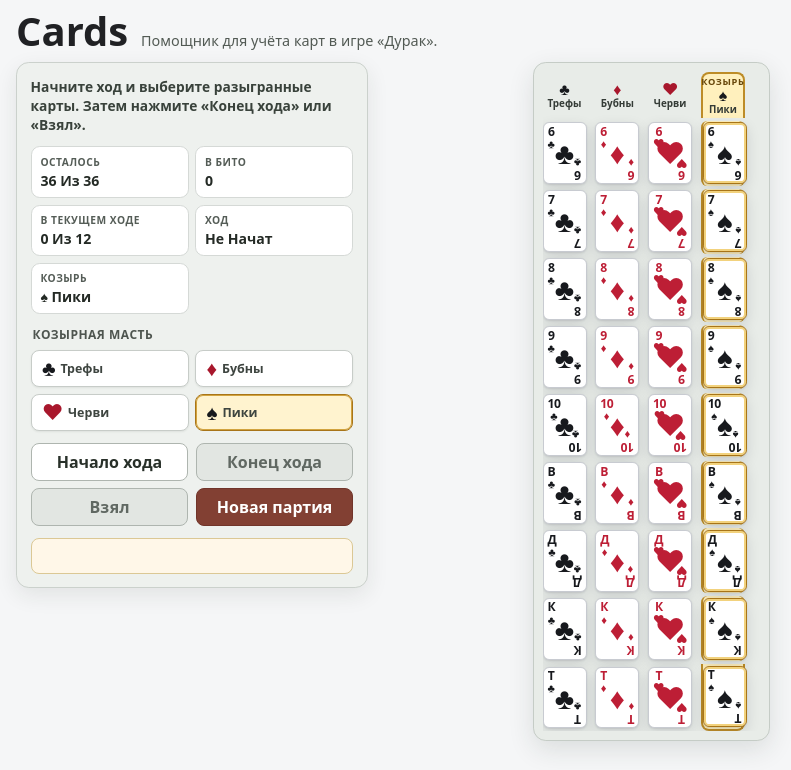
App turn scenarios › automatically starts a turn and confirms the selected card as discarded
What coordinates should you click on to do the following:
click the button "6 ♣ ♣ 6 ♣"
I would click on:
 (564, 153)
Its box is [542,122,586,184].
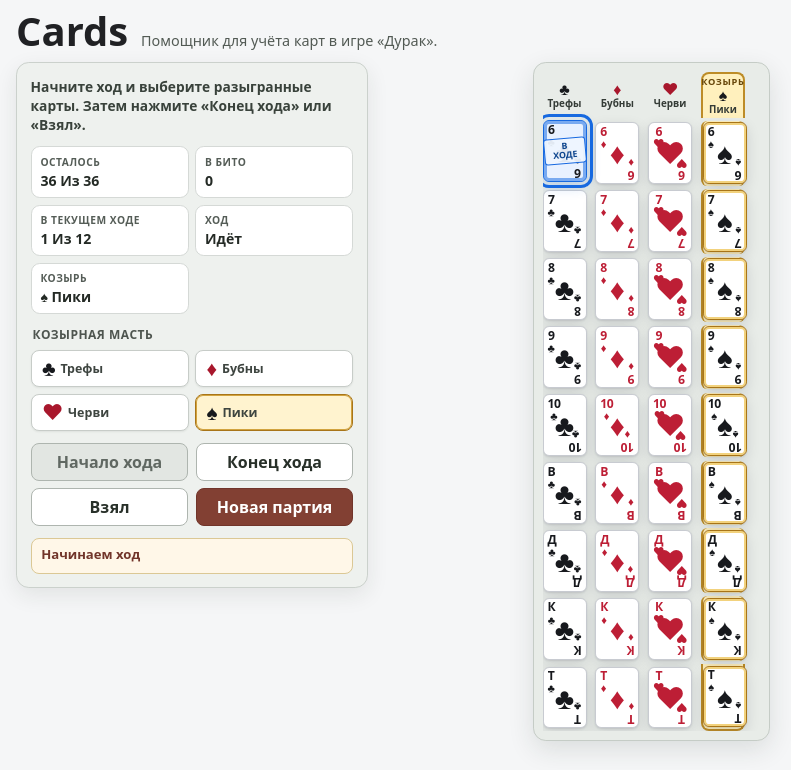
Expected: the text "Начинаем ход" is shown, [41,545,140,563]
Expected: the text "1 из 12" is shown, [40,229,91,248]
Expected: the button "Конец хода" is enabled
What coordinates should you click on to do the following:
click the button "Конец хода"
I would click on:
 (274, 462)
Its box is [196,443,353,481].
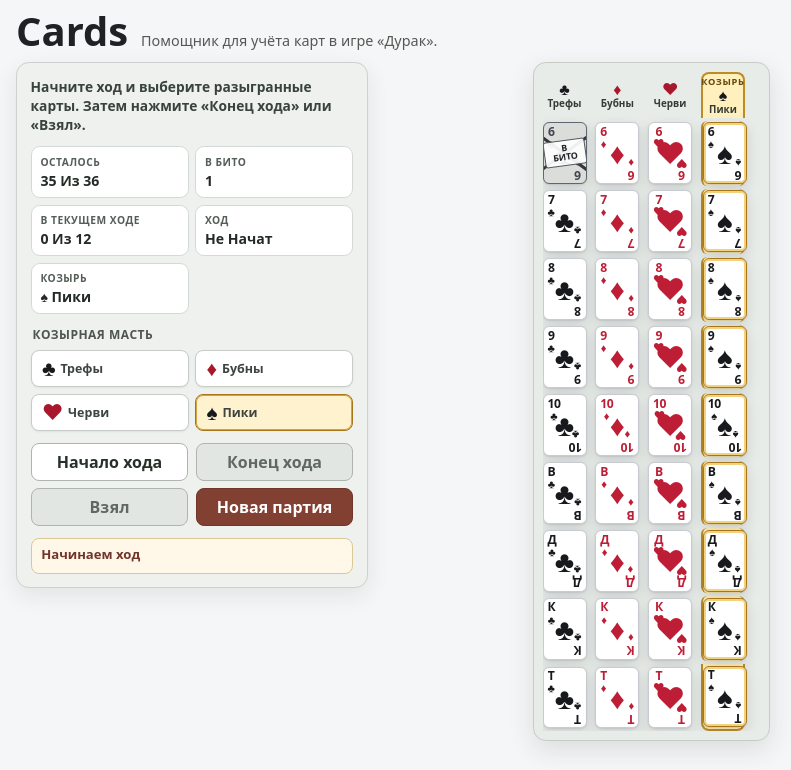
Expected: the text "1" is shown, [205,171,213,190]
Expected: the text "0 из 12" is shown, [40,229,91,248]
Expected: the button "6 ♣ ♣ 6 ♣ В бито" is disabled, [542,122,586,184]
